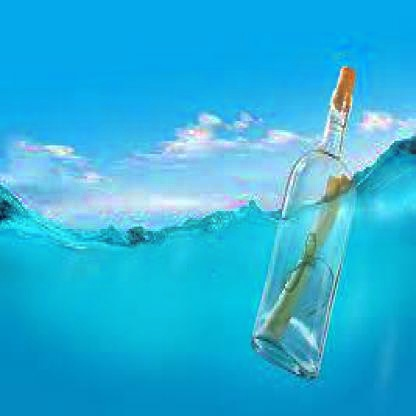gbottle: (257, 61, 357, 380)
